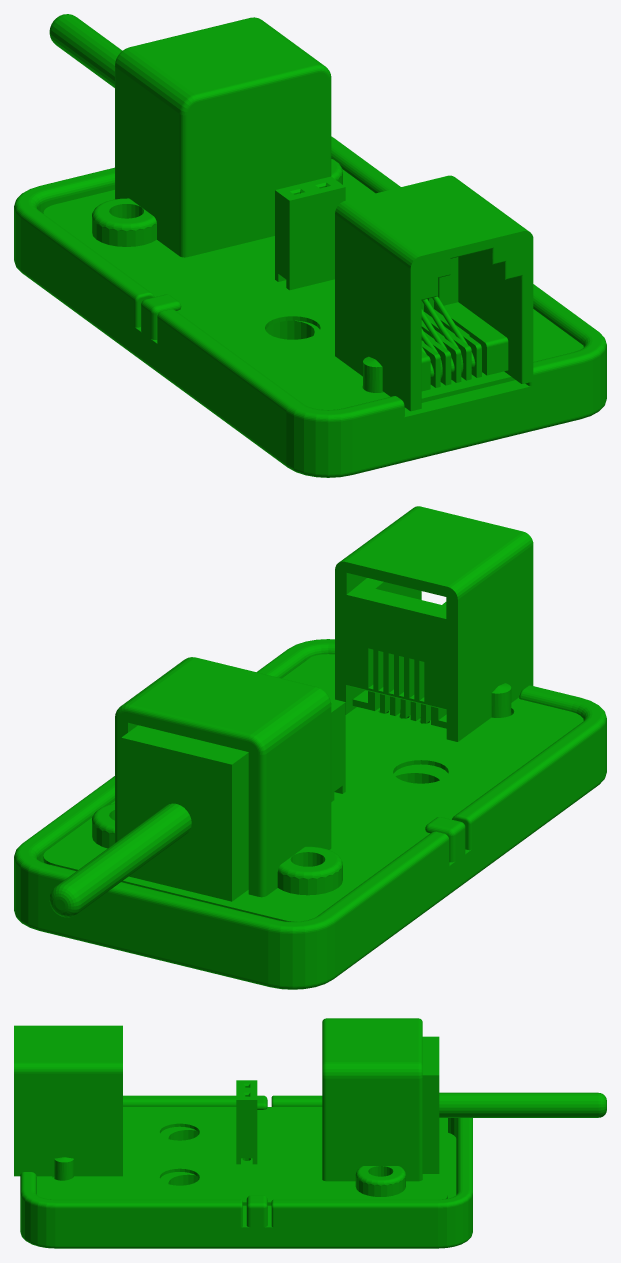
Rendered from DC_Megaton.glb.
The picture shows the model from 3 angles, top to bottom: view 1: azimuth 30°, elevation 25°; view 2: azimuth 150°, elevation 25°; view 3: azimuth 270°, elevation 25°; orthographic projection. The views are drawn at different scales.
Visible parts, largest first — view 1: defaultobject; view 2: defaultobject; view 3: defaultobject.
Part boxes in pixels (box(x1,y1,x2,y2)): defaultobject: box(14, 14, 606, 477); defaultobject: box(14, 506, 606, 989); defaultobject: box(14, 1018, 606, 1248).
Size of the model in its own units: 81.92 by 53.24 by 186.
